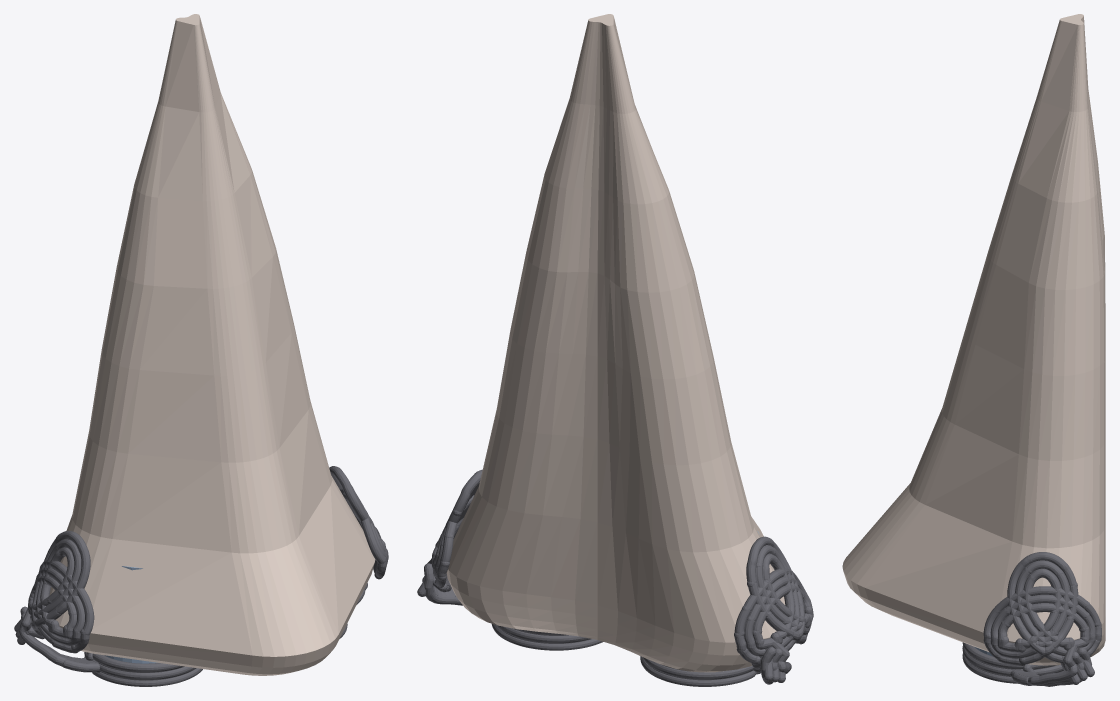
Rendered from candidate_restrained.glb.
3 views of the same model, side by side, from view 1: azimuth 30°, elevation 25°; view 2: azimuth 150°, elevation 25°; view 3: azimuth 270°, elevation 25° (orthographic). The views are drawn at different scales.
Visible parts, largest first — view 1: body, frame_mizuhiki_left, frame_mizuhiki_right; view 2: body, frame_mizuhiki_left, frame_mizuhiki_right; view 3: body, frame_mizuhiki_right.
Part boxes in pixels (box(x1,y1,x2,y2)): body: box(49, 14, 375, 675); frame_mizuhiki_left: box(14, 531, 202, 686); frame_mizuhiki_right: box(329, 466, 388, 638); body: box(446, 14, 785, 672); frame_mizuhiki_left: box(640, 536, 813, 686); frame_mizuhiki_right: box(417, 469, 603, 650); body: box(842, 14, 1105, 665); frame_mizuhiki_right: box(962, 552, 1101, 686).
Size of the model in its own units: 34.28 by 57.68 by 22.75.
